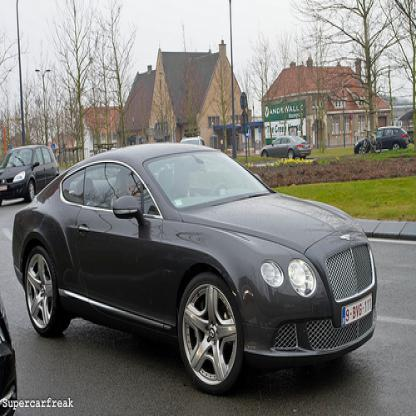car: (11, 140, 378, 395)
